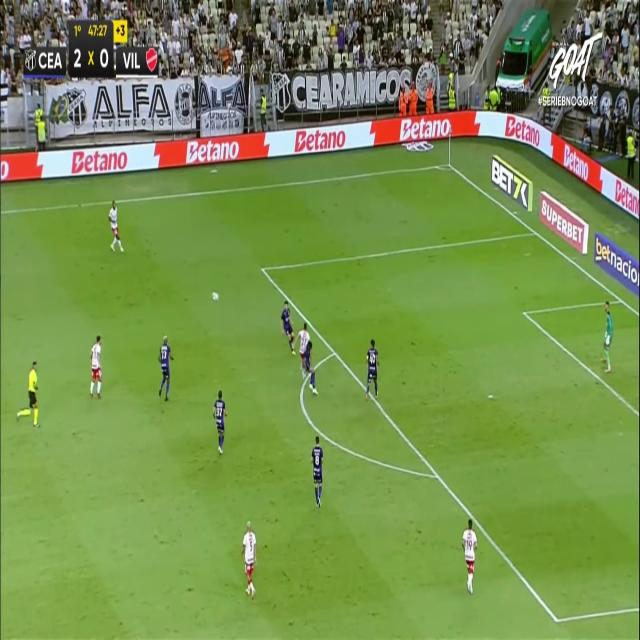ball: (212, 292, 218, 302)
goalkeeper: (601, 300, 613, 372)
player: (241, 520, 257, 600), (462, 517, 478, 594), (158, 334, 174, 401), (212, 388, 228, 454), (310, 434, 324, 508), (364, 338, 380, 400), (108, 199, 124, 253), (280, 300, 296, 354), (90, 334, 102, 398), (305, 338, 315, 396), (299, 322, 309, 373)
referee: (16, 359, 40, 428)
